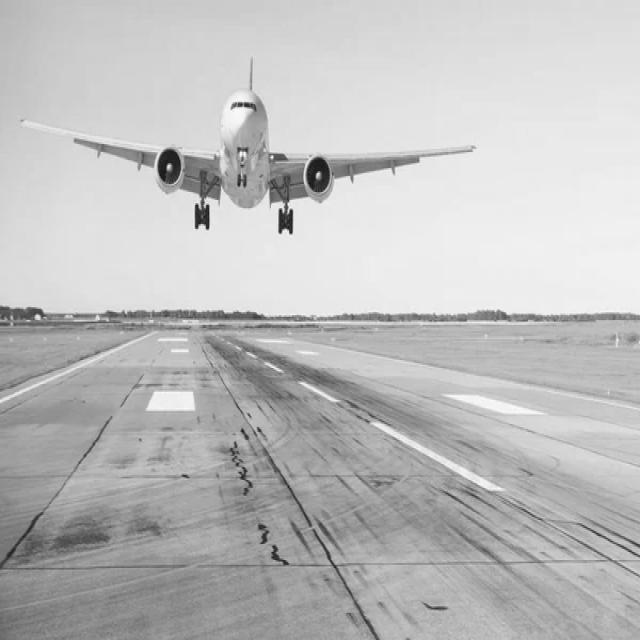Aircraft: (16, 82, 486, 230)
